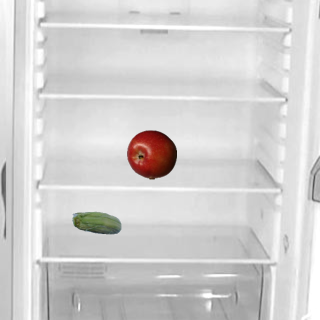Apple Braeburn: (126, 129, 176, 179)
Corn Husk: (71, 199, 121, 249)
